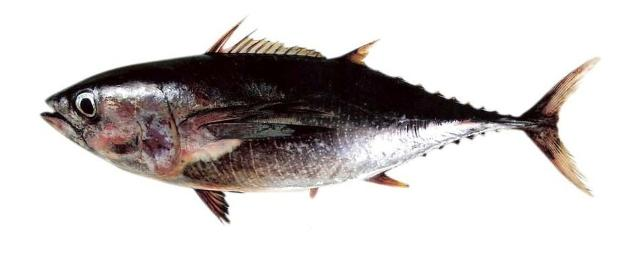Mulut: (33, 84, 71, 136)
Sirip Anal: (363, 162, 417, 194)
Sirip Dada: (192, 98, 321, 144)
Sirip Ekor: (526, 46, 612, 198)
Sirip Perut: (188, 176, 242, 230)
Sirip Punggung: (205, 12, 385, 72)
